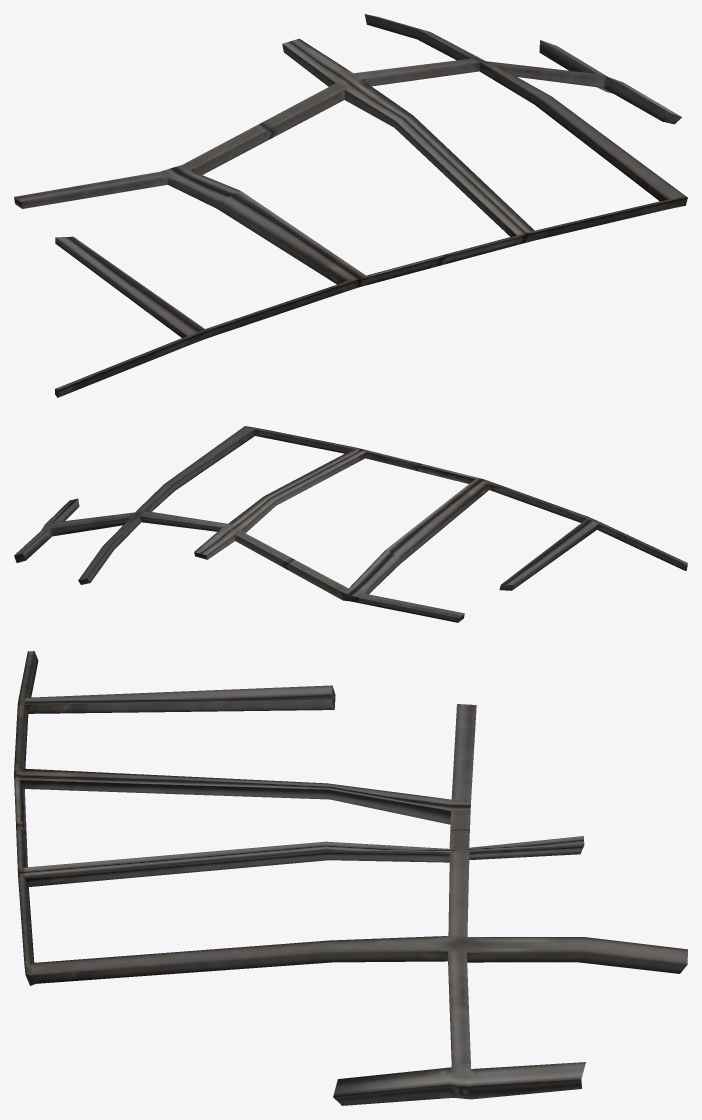
File: communcations_dome_debris03.dae
3 views of the same model, one above another, from view 1: azimuth 30°, elevation 25°; view 2: azimuth 150°, elevation 25°; view 3: azimuth 270°, elevation 25° (orthographic). The views are drawn at different scales.
Parts seen in each view (by area): view 1: polySurface563; view 2: polySurface563; view 3: polySurface563.
Part boxes in pixels (<box>): polySurface563: <box>14,14,687,397</box>; polySurface563: <box>14,426,687,622</box>; polySurface563: <box>14,651,687,1105</box>.
Bounding box in the file's own units: 3.63 × 0.3814 × 2.33.
